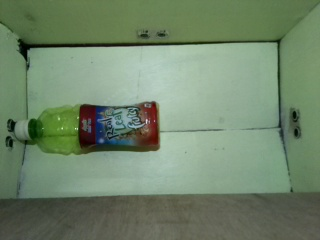bottle: (14, 99, 162, 165)
